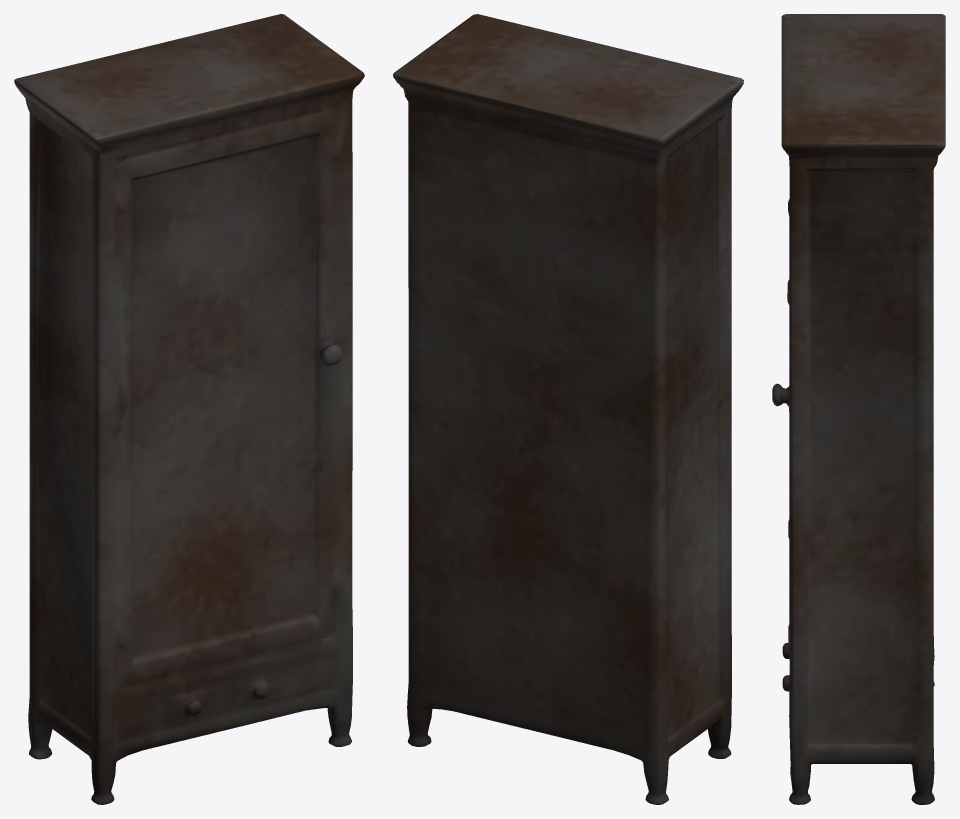
Rendered from simple-iron-medicine-cabinet-v001.glb.
The picture shows the model from 3 angles, left to right: view 1: azimuth 30°, elevation 25°; view 2: azimuth 150°, elevation 25°; view 3: azimuth 270°, elevation 25°; orthographic projection.
Visible parts, largest first — view 1: simple-iron-medicine-cabinet; view 2: simple-iron-medicine-cabinet; view 3: simple-iron-medicine-cabinet.
Boxes of the visible parts, x1=… form: simple-iron-medicine-cabinet: x1=14, y1=14, x2=364, y2=804; simple-iron-medicine-cabinet: x1=393, y1=14, x2=743, y2=804; simple-iron-medicine-cabinet: x1=772, y1=14, x2=945, y2=804.
Bounding box in the file's own units: 0.7335 × 1.75 × 0.4127.
Materials: 1 (1 with a texture image).
